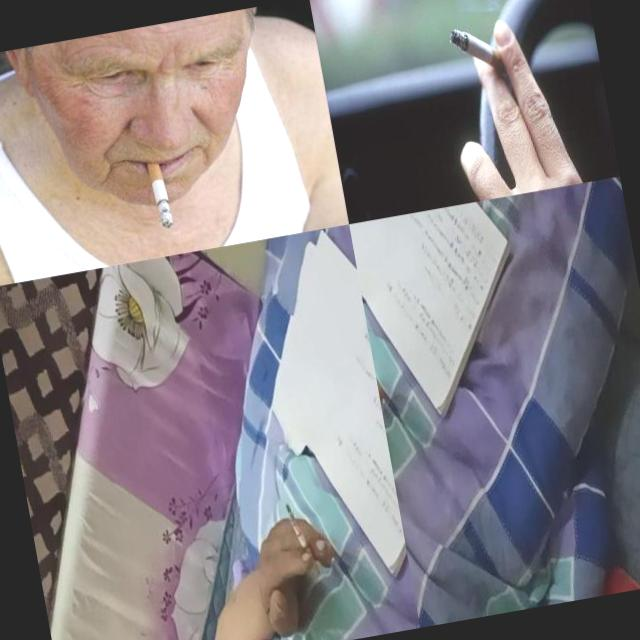cigarette: (447, 21, 509, 82), (284, 499, 322, 582), (141, 152, 178, 235)
